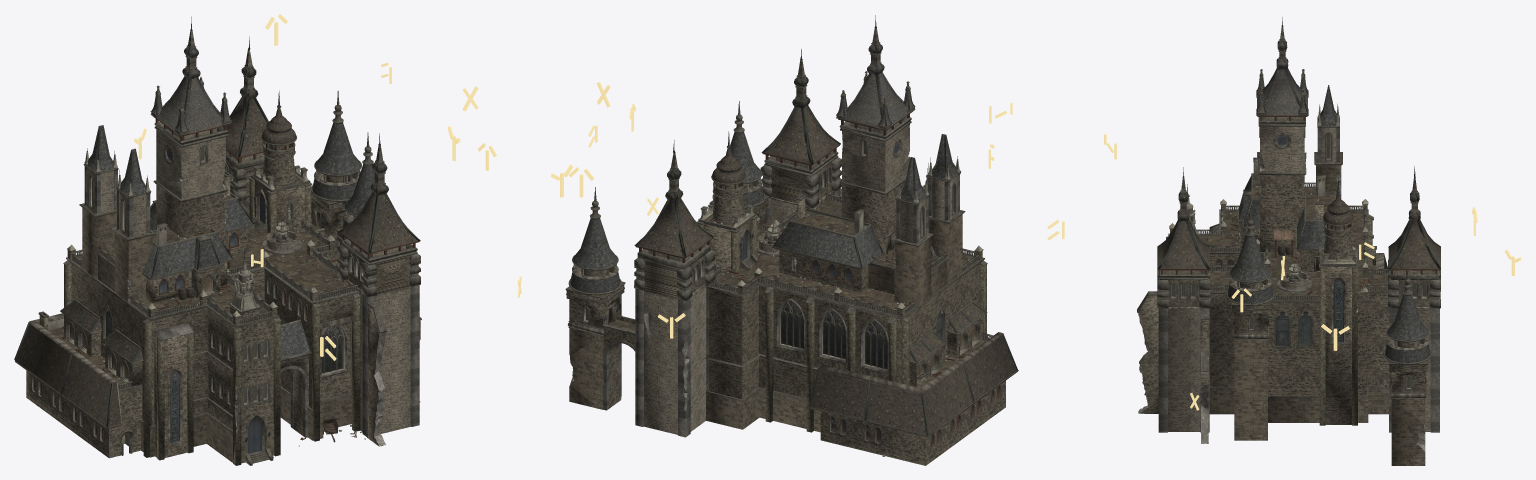
The model's file is sudoku_diorama.glb.
3 renders of one model, left to right at view 1: azimuth 30°, elevation 25°; view 2: azimuth 150°, elevation 25°; view 3: azimuth 270°, elevation 25°, orthographic. The views are drawn at different scales.
Visible parts, largest first — view 1: KB3D_DKF_BldgLG_B_Main, KB3D_DKF_BldgLG_B_BuildingA, KB3D_DKF_BldgLG_B_TowerA, KB3D_DKF_BldgLG_B_TowerD, KB3D_DKF_BldgLG_B_TowerB, KB3D_DKF_BldgLG_B_TowerF, KB3D_DKF_BldgLG_B_TowerG, KB3D_DKF_BldgLG_B_TowerE, KB3D_DKF_BldgLG_B_TowerC, KB3D_DKF_BldgLG_B_TowerH, KB3D_DKF_BldgLG_B_Fountain; view 2: KB3D_DKF_BldgLG_B_Main, KB3D_DKF_BldgLG_B_TowerB, KB3D_DKF_BldgLG_B_BuildingA, KB3D_DKF_BldgLG_B_TowerA, KB3D_DKF_BldgLG_B_TowerD, KB3D_DKF_BldgLG_B_TowerG, KB3D_DKF_BldgLG_B_TowerF, KB3D_DKF_BldgLG_B_Bridge, KB3D_DKF_BldgLG_B_TowerE, KB3D_DKF_BldgLG_B_TowerC, KB3D_DKF_BldgLG_B_Fountain; view 3: KB3D_DKF_BldgLG_B_Main, KB3D_DKF_BldgLG_B_TowerA, KB3D_DKF_BldgLG_B_TowerC, KB3D_DKF_BldgLG_B_TowerB, KB3D_DKF_BldgLG_B_TowerD, KB3D_DKF_BldgLG_B_BuildingA, KB3D_DKF_BldgLG_B_TowerE, KB3D_DKF_BldgLG_B_TowerG, KB3D_DKF_BldgLG_B_Fountain.
Boxes of the visible parts, x1=… form: KB3D_DKF_BldgLG_B_Main: x1=14, y1=133, x2=421, y2=465; KB3D_DKF_BldgLG_B_BuildingA: x1=79, y1=171, x2=254, y2=303; KB3D_DKF_BldgLG_B_TowerA: x1=150, y1=16, x2=232, y2=246; KB3D_DKF_BldgLG_B_TowerD: x1=311, y1=90, x2=361, y2=259; KB3D_DKF_BldgLG_B_TowerB: x1=223, y1=36, x2=268, y2=203; KB3D_DKF_BldgLG_B_TowerF: x1=116, y1=148, x2=151, y2=238; KB3D_DKF_BldgLG_B_TowerG: x1=83, y1=125, x2=118, y2=214; KB3D_DKF_BldgLG_B_TowerE: x1=261, y1=91, x2=296, y2=186; KB3D_DKF_BldgLG_B_TowerC: x1=331, y1=132, x2=374, y2=266; KB3D_DKF_BldgLG_B_TowerH: x1=228, y1=250, x2=260, y2=319; KB3D_DKF_BldgLG_B_Fountain: x1=262, y1=221, x2=302, y2=254; KB3D_DKF_BldgLG_B_Main: x1=697, y1=49, x2=1018, y2=465; KB3D_DKF_BldgLG_B_TowerB: x1=634, y1=140, x2=715, y2=437; KB3D_DKF_BldgLG_B_BuildingA: x1=772, y1=194, x2=965, y2=306; KB3D_DKF_BldgLG_B_TowerA: x1=836, y1=15, x2=915, y2=254; KB3D_DKF_BldgLG_B_TowerD: x1=565, y1=187, x2=625, y2=409; KB3D_DKF_BldgLG_B_TowerG: x1=895, y1=157, x2=929, y2=244; KB3D_DKF_BldgLG_B_TowerF: x1=927, y1=134, x2=961, y2=221; KB3D_DKF_BldgLG_B_Bridge: x1=603, y1=315, x2=635, y2=410; KB3D_DKF_BldgLG_B_TowerE: x1=711, y1=131, x2=746, y2=224; KB3D_DKF_BldgLG_B_TowerC: x1=709, y1=101, x2=770, y2=228; KB3D_DKF_BldgLG_B_Fountain: x1=757, y1=223, x2=781, y2=255; KB3D_DKF_BldgLG_B_Main: x1=1137, y1=167, x2=1388, y2=443; KB3D_DKF_BldgLG_B_TowerA: x1=1256, y1=17, x2=1308, y2=251; KB3D_DKF_BldgLG_B_TowerC: x1=1226, y1=207, x2=1274, y2=440; KB3D_DKF_BldgLG_B_TowerB: x1=1388, y1=166, x2=1440, y2=432; KB3D_DKF_BldgLG_B_TowerD: x1=1383, y1=266, x2=1431, y2=465; KB3D_DKF_BldgLG_B_BuildingA: x1=1236, y1=152, x2=1342, y2=272; KB3D_DKF_BldgLG_B_TowerE: x1=1322, y1=177, x2=1354, y2=259; KB3D_DKF_BldgLG_B_TowerG: x1=1317, y1=85, x2=1340, y2=163; KB3D_DKF_BldgLG_B_Fountain: x1=1277, y1=262, x2=1312, y2=292.
Size of the model in its own units: 46.32 by 42.6 by 52.19.
26 materials, 25 textured.
